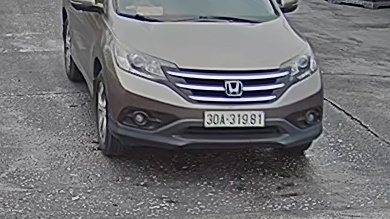vehicle plate: (201, 108, 267, 128)
